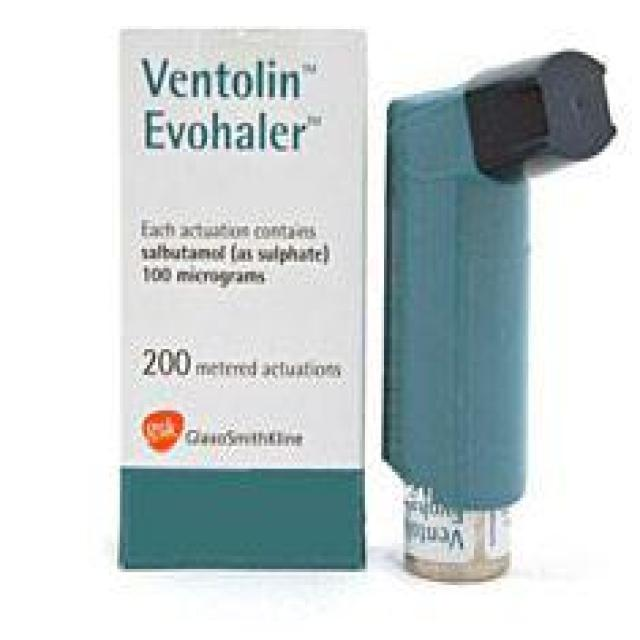B3: (373, 49, 624, 588)
